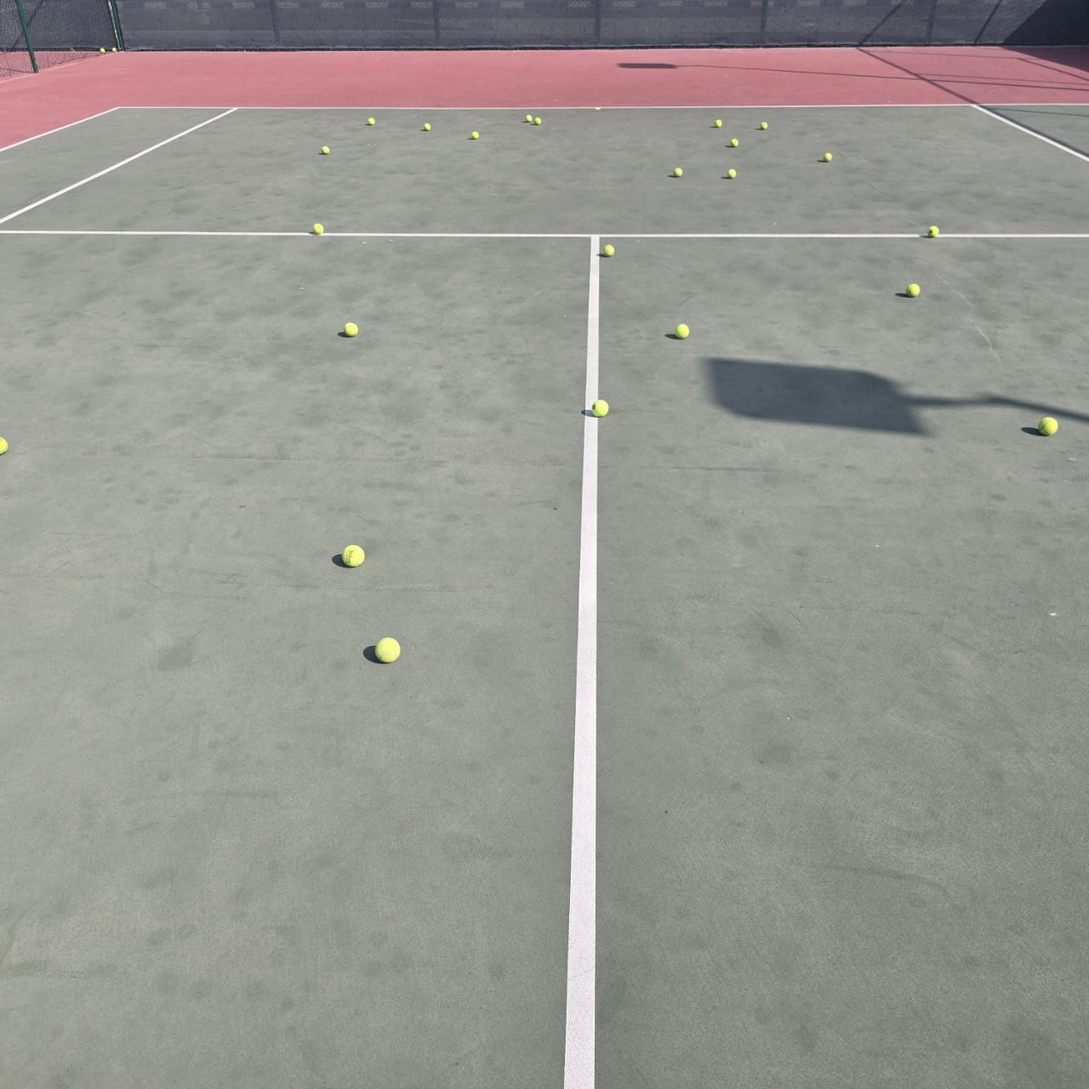tennis-ball: (373, 635, 401, 663), (341, 542, 365, 567), (1037, 414, 1058, 436), (591, 397, 608, 416), (674, 321, 689, 338), (0, 435, 11, 458), (343, 320, 358, 336), (906, 281, 920, 296), (311, 222, 325, 236), (601, 242, 614, 257), (927, 225, 940, 238), (320, 145, 331, 155), (727, 168, 737, 179), (822, 153, 833, 163), (729, 138, 739, 148), (470, 131, 480, 140), (674, 168, 683, 178), (423, 122, 432, 131), (760, 121, 768, 131), (368, 117, 376, 126), (525, 114, 533, 123), (714, 120, 723, 128), (534, 117, 542, 125), (111, 46, 117, 52), (100, 48, 105, 54)
